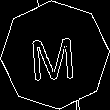M_N: (30, 28, 80, 82)
